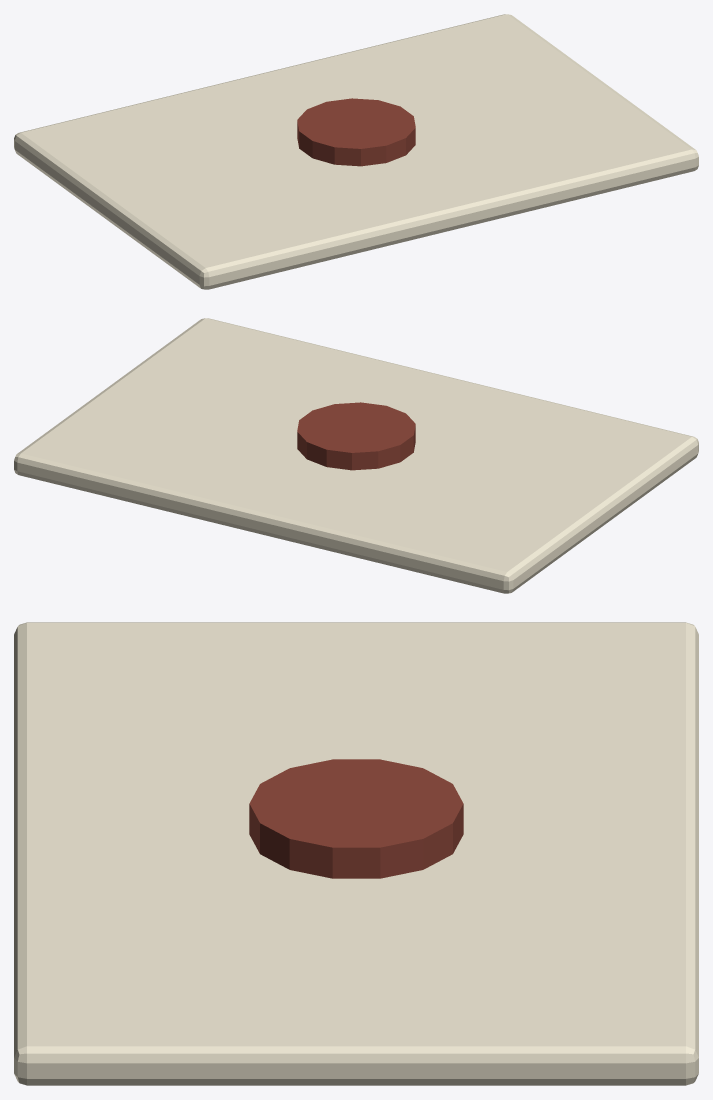
Rendered from Letter.glb.
The picture shows the model from 3 angles, top to bottom: view 1: azimuth 30°, elevation 25°; view 2: azimuth 150°, elevation 25°; view 3: azimuth 270°, elevation 25°; orthographic projection. The views are drawn at different scales.
Parts seen in each view (by area): view 1: Letter; view 2: Letter; view 3: Letter.
Boxes of the visible parts, x1,y1,x2,y2 form: Letter: (14,14,698,289); Letter: (14,318,698,593); Letter: (14,622,698,1085).
Bounding box in the file's own units: 0.24 × 0.018 × 0.16.
